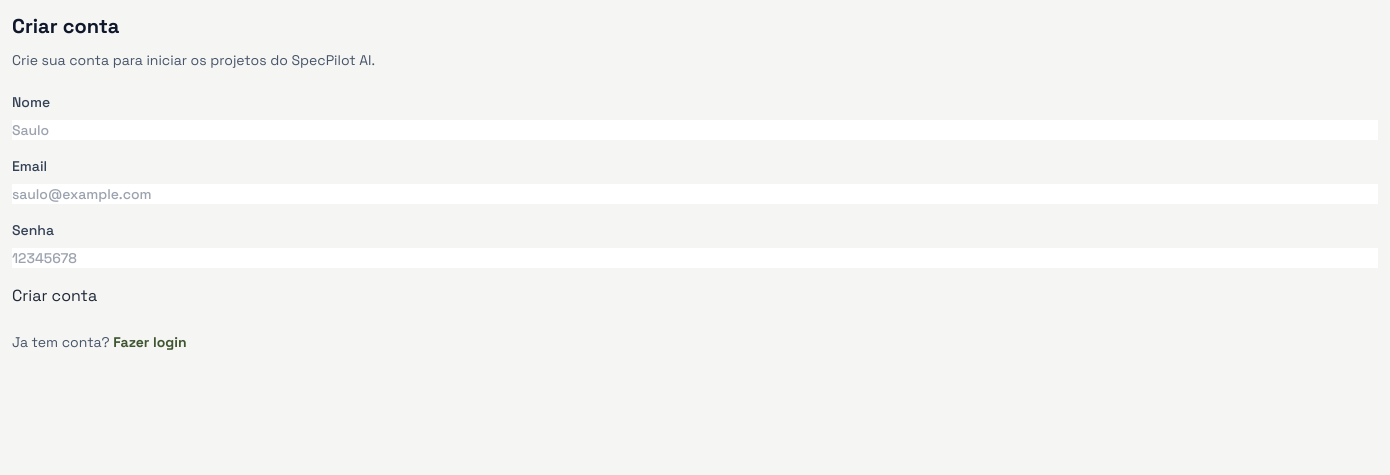
Test: RegisterPage › valida campos obrigatorios
Click the button "Criar conta".
click(55, 296)  # box [12,284,97,308]
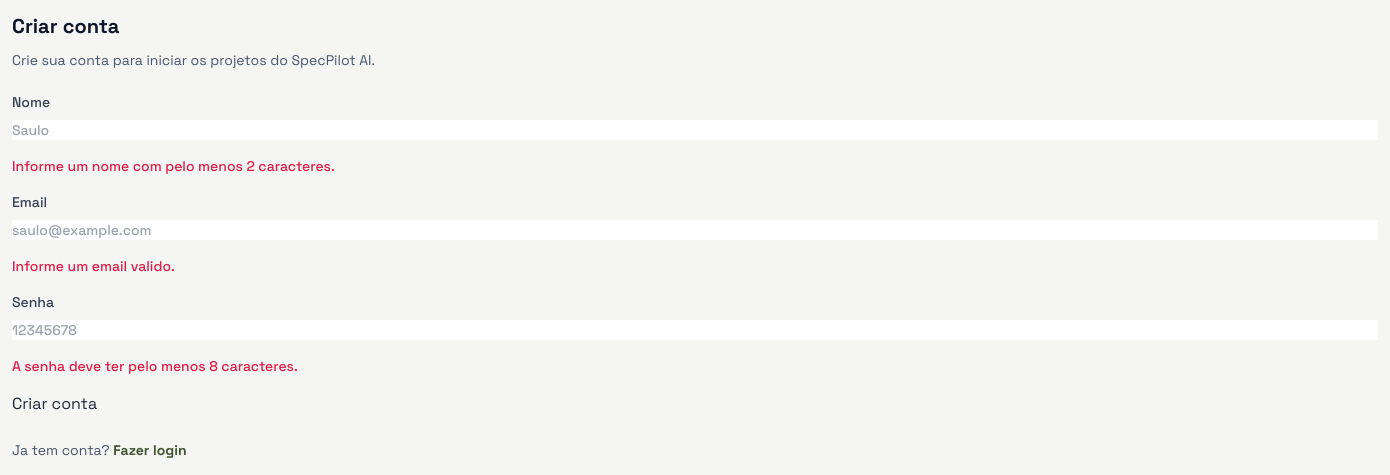
Now the text "Informe um nome com pelo menos 2 caracteres." is shown, box [12,157,335,175]
Now the text "Informe um email valido." is shown, box [12,257,175,275]
Now the text "A senha deve ter pelo menos 8 caracteres." is shown, box [12,357,298,375]
